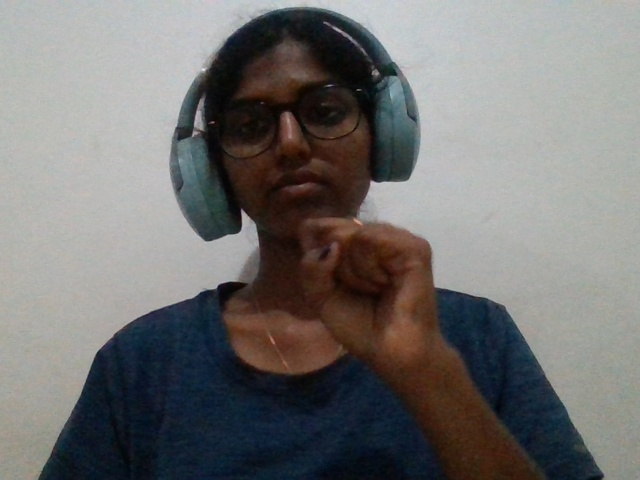Yes: (287, 204, 473, 424)
